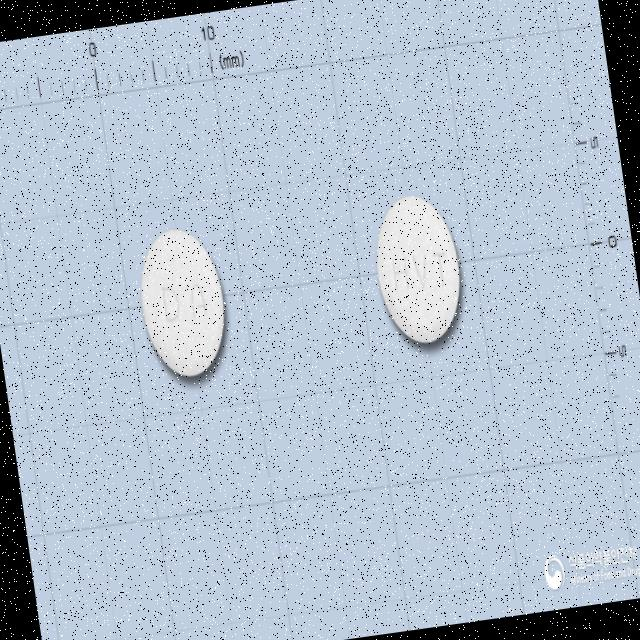Hepsevir: (130, 221, 234, 384), (366, 187, 468, 349)
